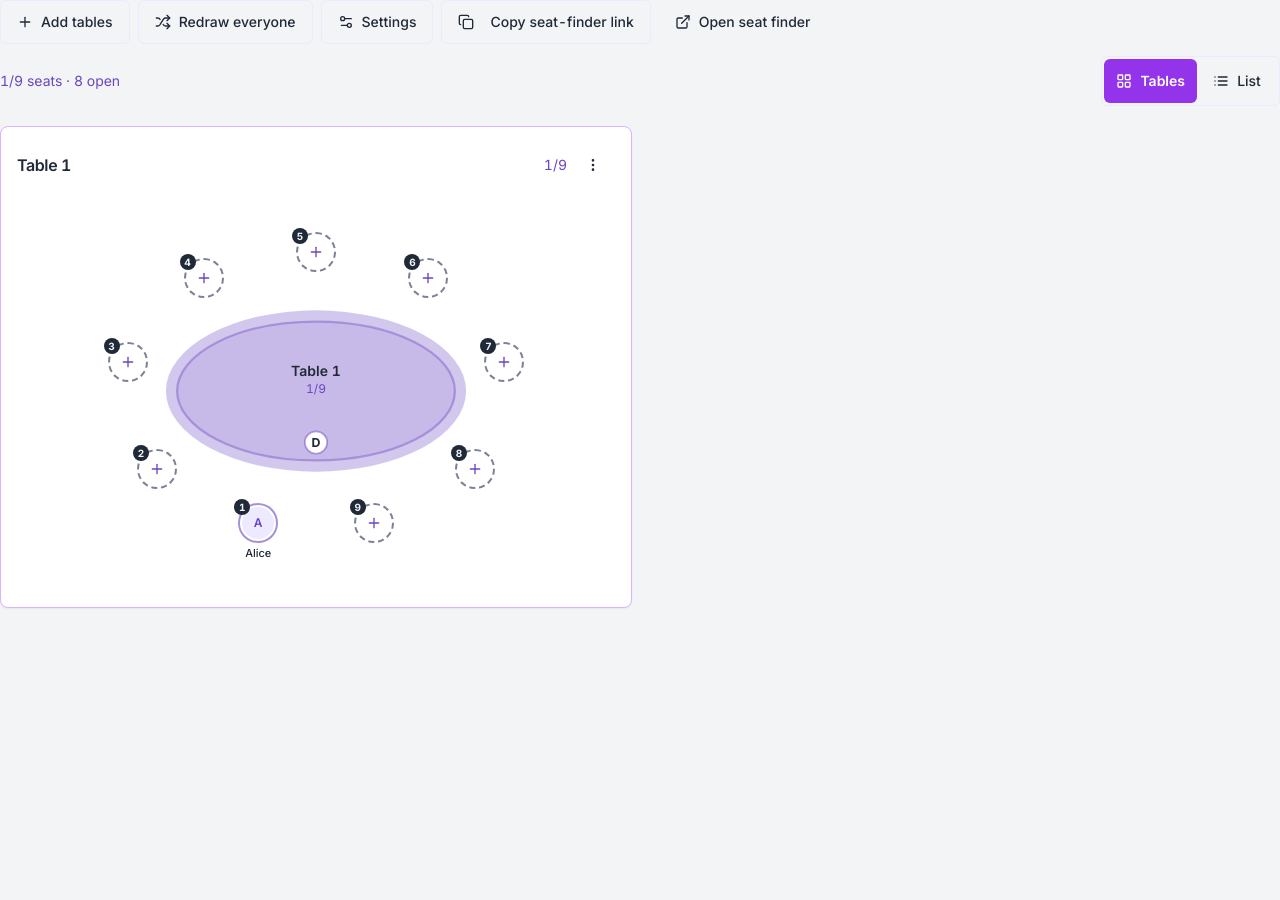
Scenario: Seating settings › starts from the settings in force, and saves only what the TD changed (at 390 px)
Click the button "Settings" at (377, 22), box [320,0,433,44]
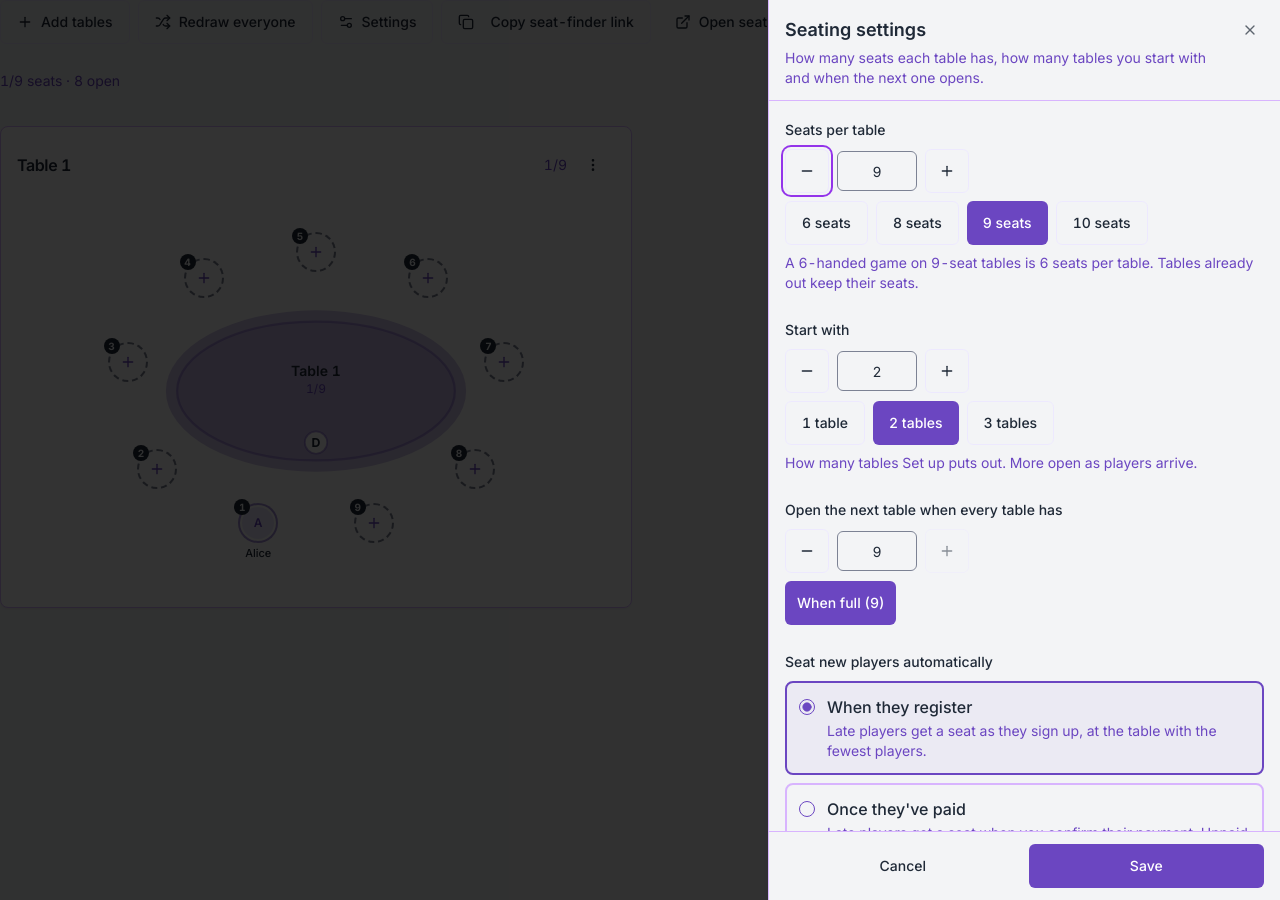
Result: the field labelled "Seats per table" holds "9" at [837,151,917,191]
Result: the field labelled "Start with" holds "2" at [837,351,917,391]
Result: the radio button named "When they register" next to "When they register" is checked at [799,699,815,715]
Click the button "6 seats" at (826, 223), box [785,201,868,245]
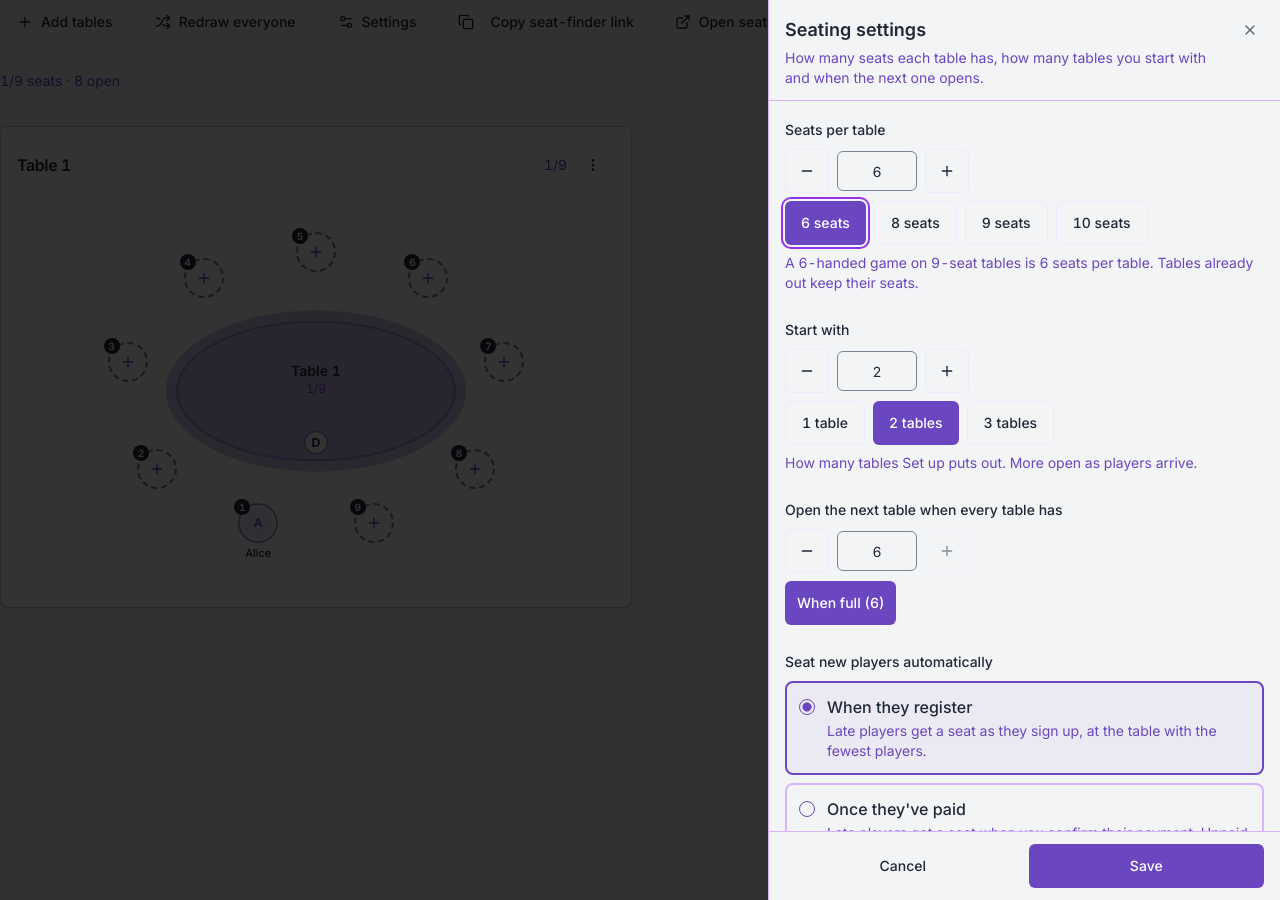
Click the radio button named "Once they've paid" next to "Once they've paid" at (807, 809), box [799,801,815,817]
(page scrolled)
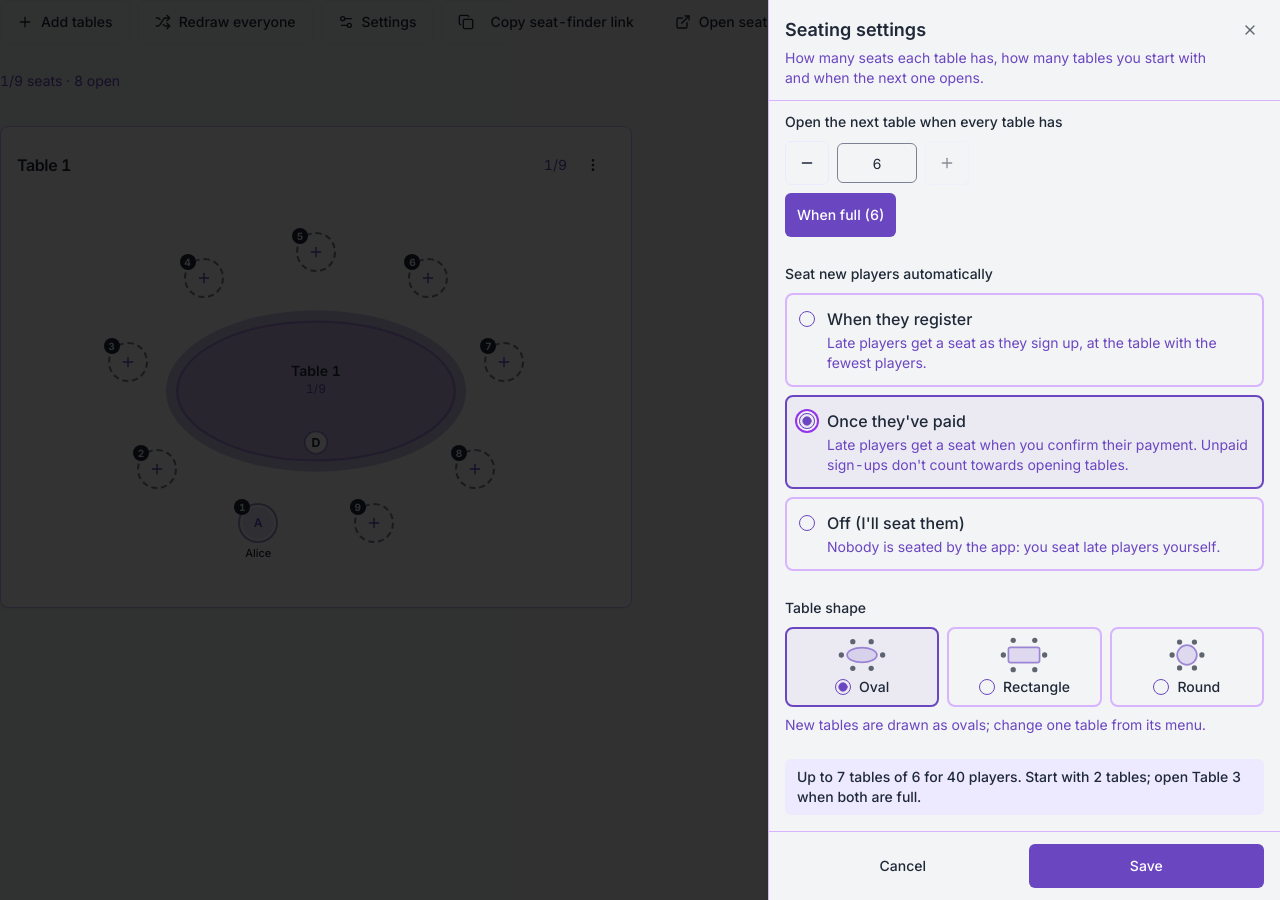
Click the radio button named "Rectangle" next to "Rectangle" at (987, 687), box [979,679,995,695]
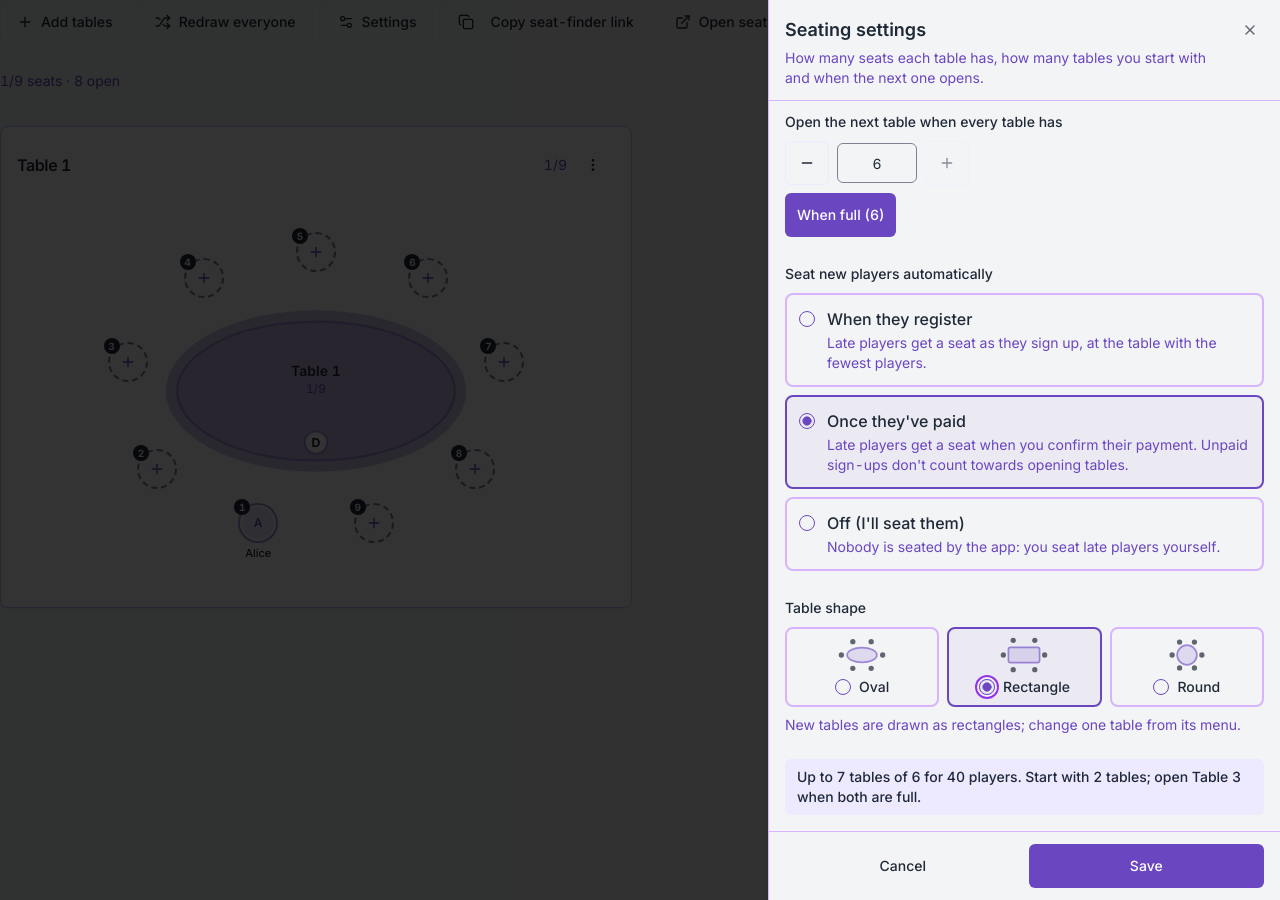
Result: the text with test id "settings-summary" shows "Up to 7 tables of 6 for 40 players." at [797,768,1241,805]
Click the button "Save" at (1146, 866), box [1028,844,1264,888]
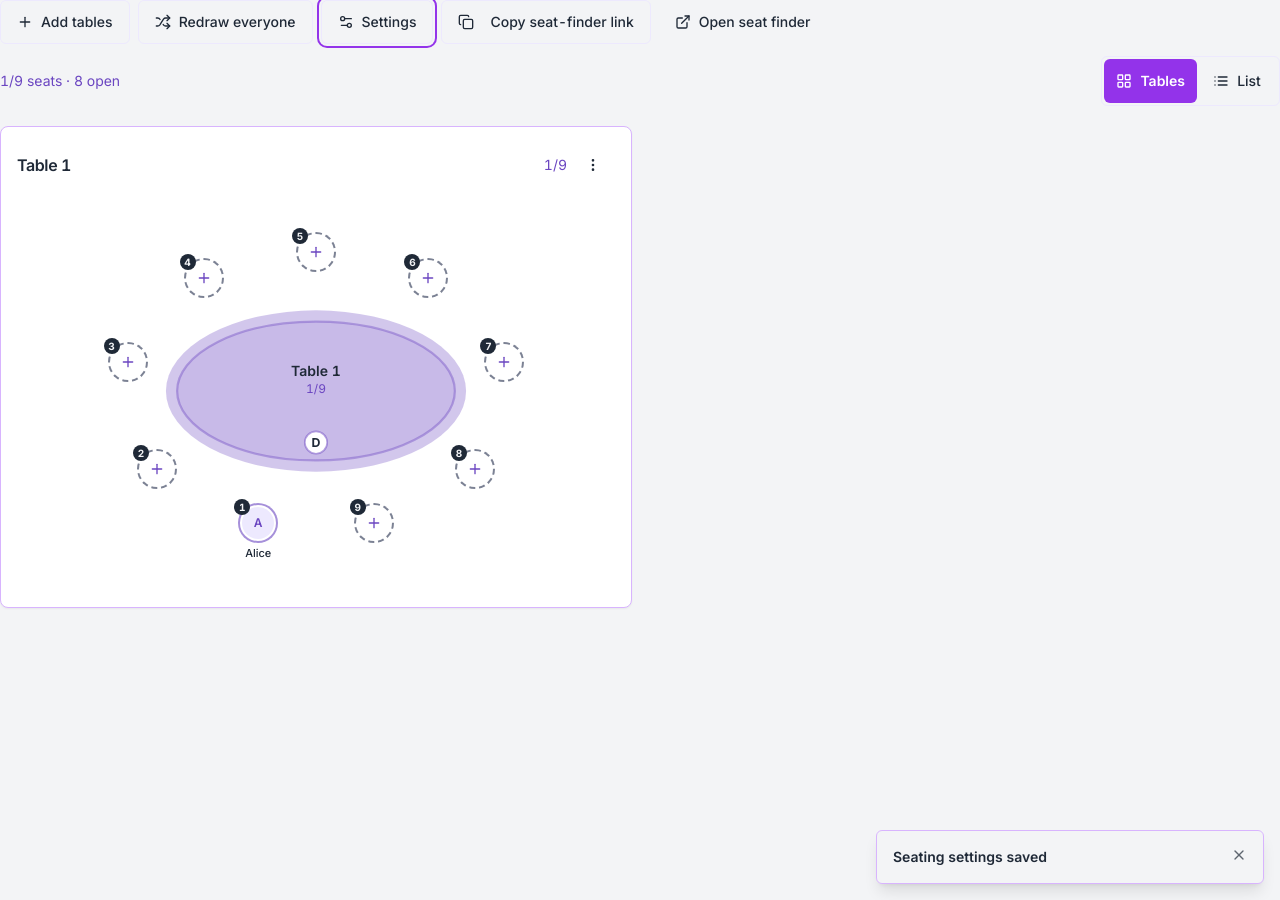
Result: the text "Seating settings saved" is shown at [893,848,1047,865]
